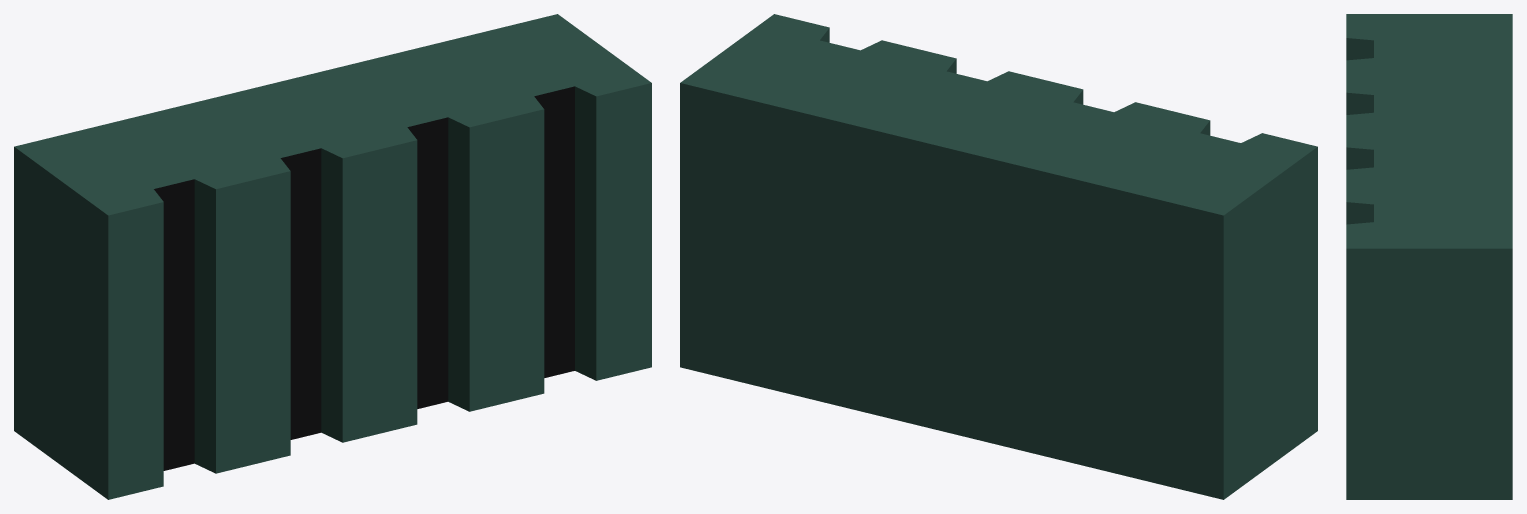
The model's file is W2_Wall_Ridge2_Top.fbx.
3 renders of one model, left to right at view 1: azimuth 30°, elevation 25°; view 2: azimuth 150°, elevation 25°; view 3: azimuth 270°, elevation 25°, orthographic. The views are drawn at different scales.
Parts seen in each view (by area): view 1: W2_Wall_Ridge2_Top.001; view 2: W2_Wall_Ridge2_Top.001; view 3: W2_Wall_Ridge2_Top.001.
Part boxes in pixels (x1,y1,x2,y2): W2_Wall_Ridge2_Top.001: (14,14,651,499); W2_Wall_Ridge2_Top.001: (680,14,1317,499); W2_Wall_Ridge2_Top.001: (1346,14,1512,499).
Bounding box in the file's own units: 1 × 0.5 × 0.3.
